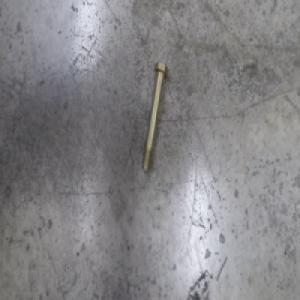Bolt: (141, 60, 168, 173)
